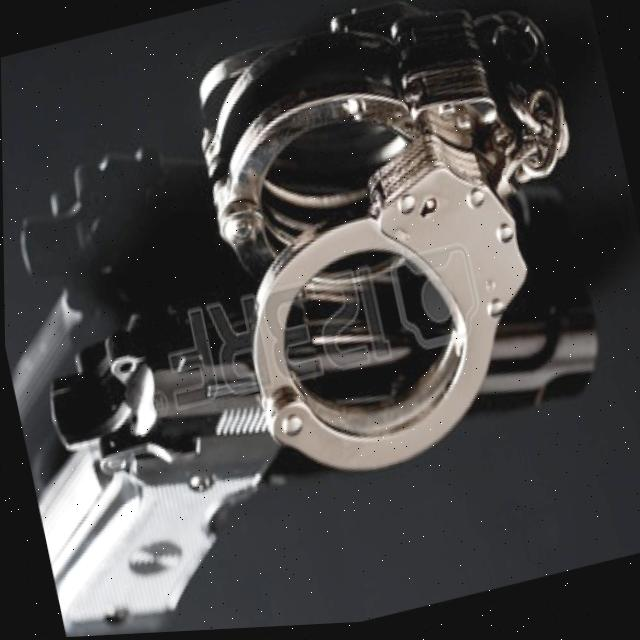pistol: (6, 230, 638, 640)
